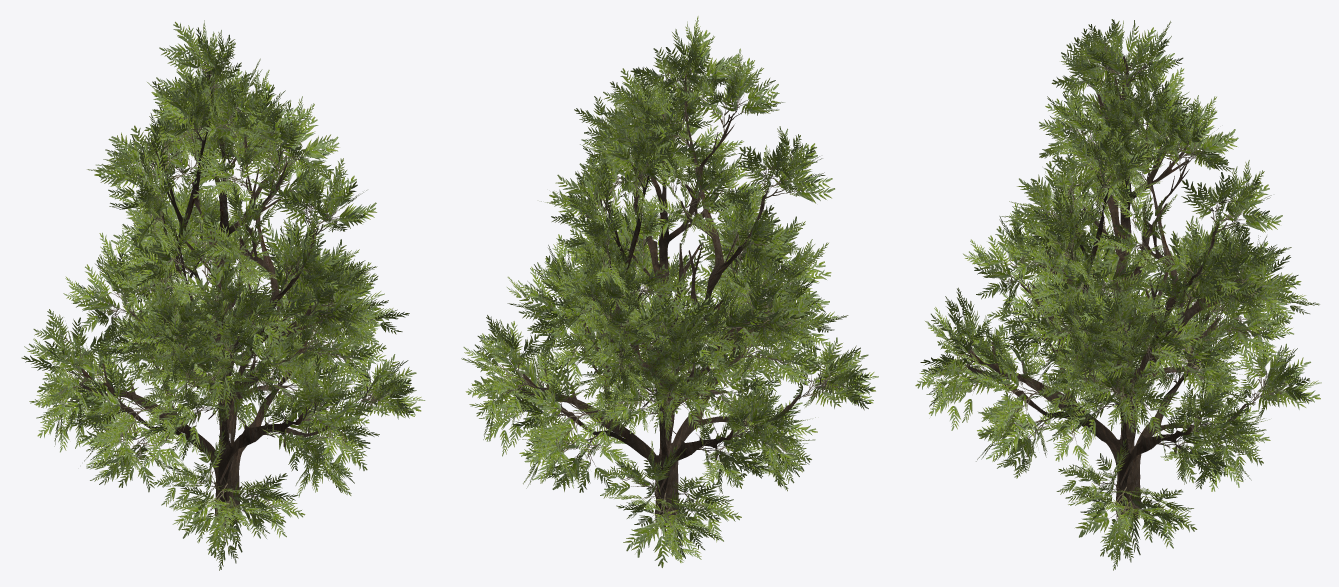
The model's file is tree_lod0.glb.
3 views of the same model, side by side, from view 1: azimuth 30°, elevation 25°; view 2: azimuth 150°, elevation 25°; view 3: azimuth 270°, elevation 25° (orthographic). The views are drawn at different scales.
Visible parts, largest first — view 1: Object_5402.001, Object_5400.001; view 2: Object_5402.001, Object_5400.001; view 3: Object_5402.001, Object_5400.001.
Part boxes in pixels (x1,y1,x2,y2): Object_5402.001: (21, 20, 425, 570); Object_5400.001: (79, 71, 343, 529); Object_5402.001: (461, 16, 878, 567); Object_5400.001: (521, 67, 800, 531); Object_5402.001: (915, 19, 1321, 570); Object_5400.001: (966, 55, 1246, 519).
Size of the model in its own units: 15.7 by 20.64 by 15.72.
2 materials, 2 textured.
